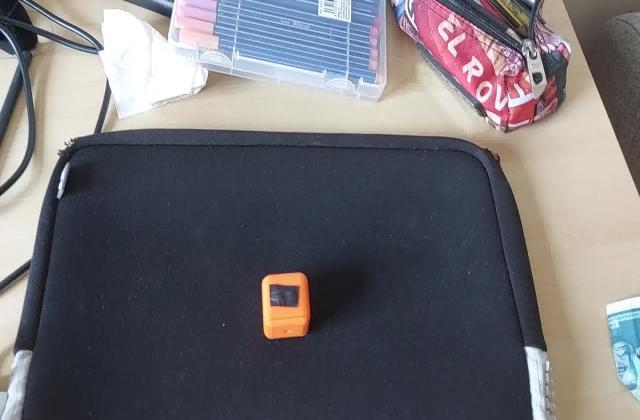black: (266, 282, 303, 312)
sticker: (258, 271, 314, 343)
